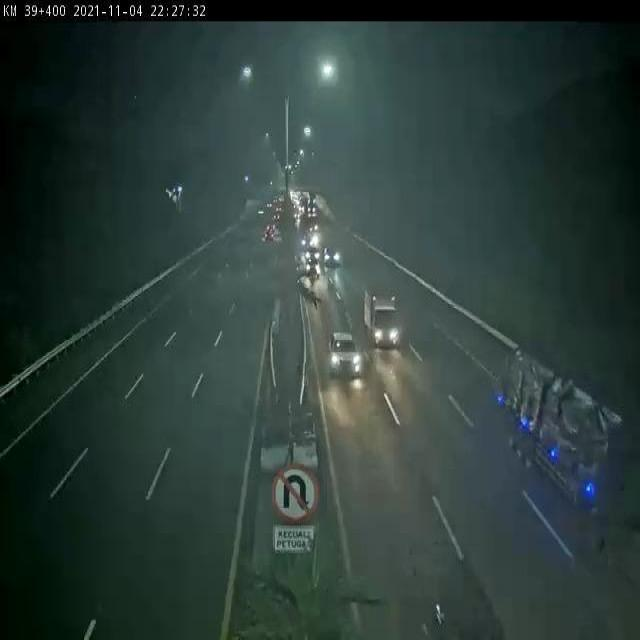car: (331, 331, 361, 377)
truck-s-: (364, 287, 399, 345)
truck-xl-: (501, 341, 640, 559)
